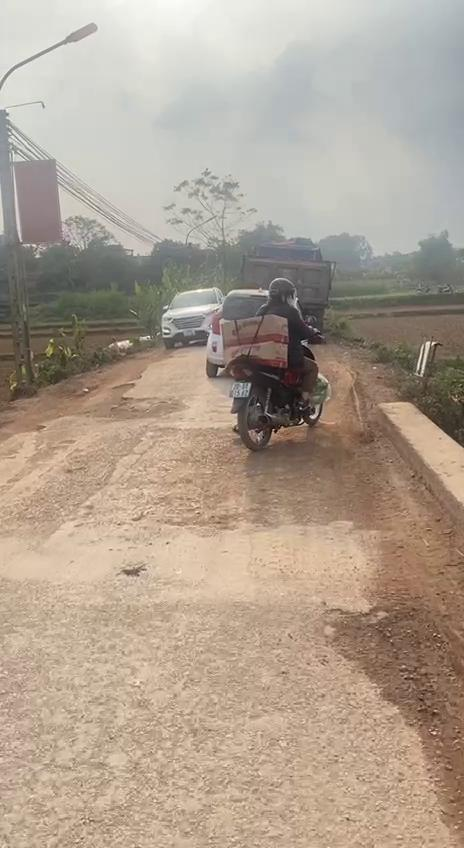pothole: (308, 582, 464, 742), (29, 380, 194, 436)
